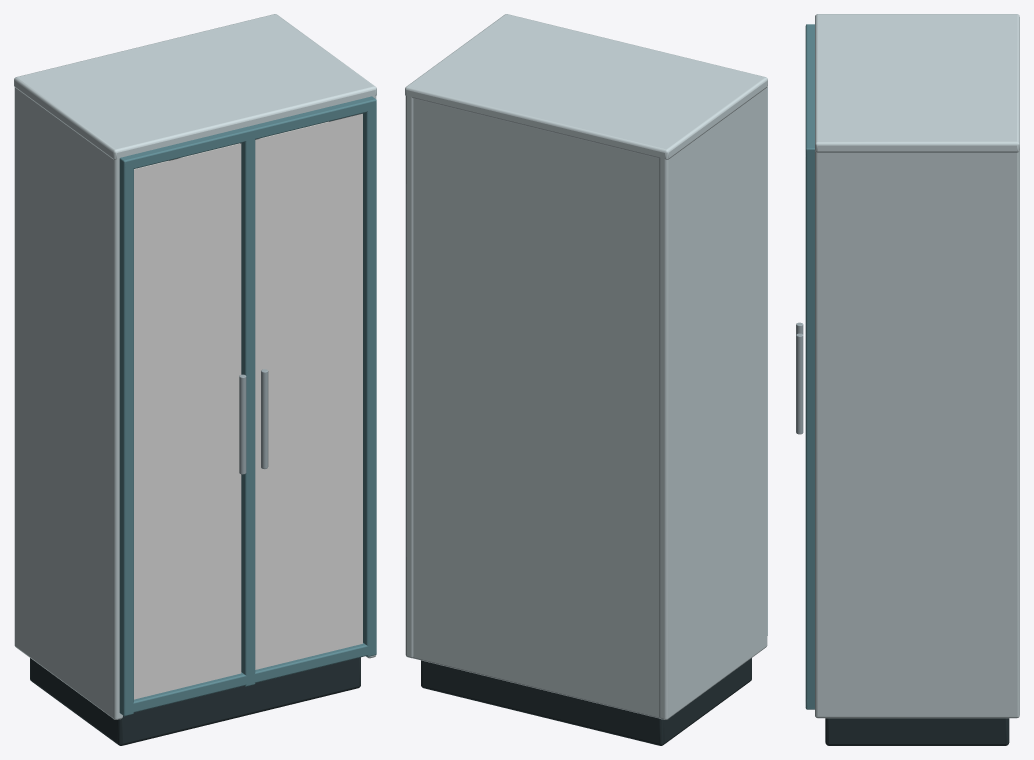
Rendered from ID_GlassSpecimenCabinet.fbx.
The picture shows the model from 3 angles, left to right: view 1: azimuth 30°, elevation 25°; view 2: azimuth 150°, elevation 25°; view 3: azimuth 270°, elevation 25°; orthographic projection.
Parts seen in each view (by area): view 1: ID_GlassSpecimenCabinet; view 2: ID_GlassSpecimenCabinet; view 3: ID_GlassSpecimenCabinet.
Part boxes in pixels (x1,y1,x2,y2): ID_GlassSpecimenCabinet: [14, 14, 376, 745]; ID_GlassSpecimenCabinet: [405, 14, 767, 745]; ID_GlassSpecimenCabinet: [796, 14, 1019, 745].
Size of the model in its own units: 102 by 223 by 74.2.
